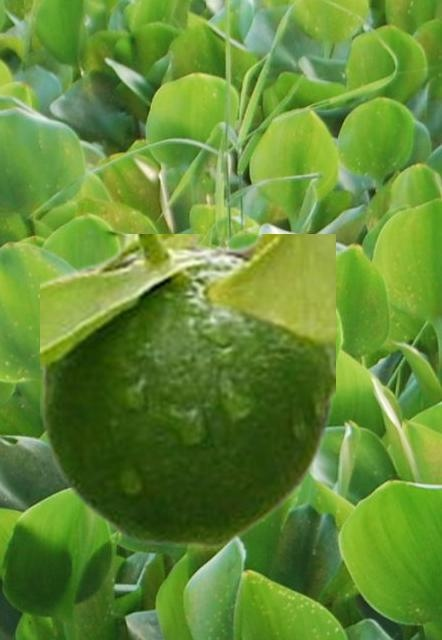dalandan: (40, 234, 334, 546)
